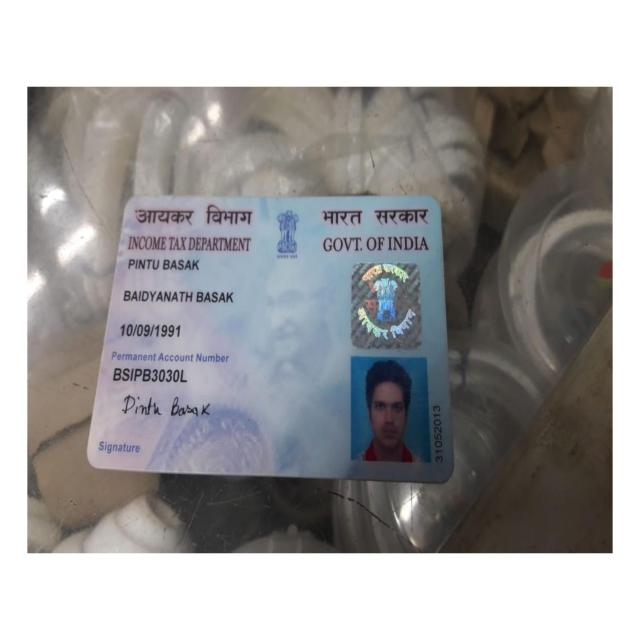pan_card: (87, 196, 450, 482)
